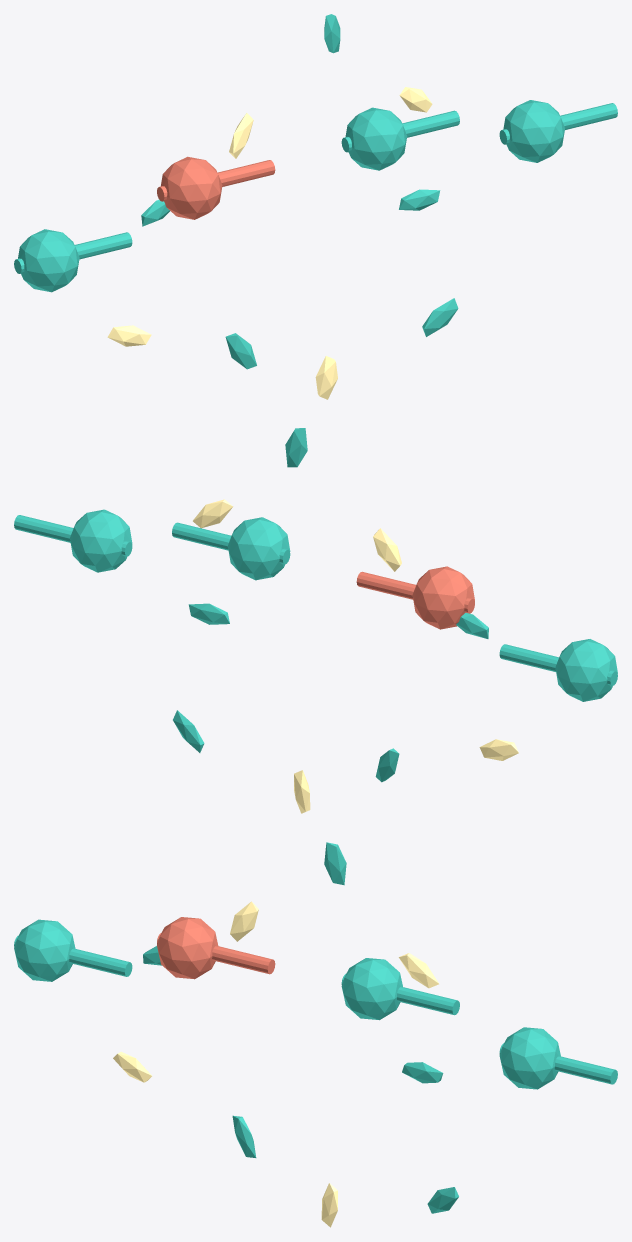
The model's file is banyan_scent_states.glb.
The picture shows the model from 3 angles, top to bottom: view 1: azimuth 30°, elevation 25°; view 2: azimuth 150°, elevation 25°; view 3: azimuth 330°, elevation 25°; orthographic projection.
Parts seen in each view (by area): view 1: Scent_CLAIMING_Bead_00, Scent_CLAIMING_Bead_02, Scent_CLAIMING_Bead_03, Scent_CLAIMING_Bead_01, Scent_CLAIMING_Stroke_00, Scent_CLAIMING_Stroke_01, Scent_CLAIMING_Stroke_03, Scent_CLAIMING_Stroke_02, Reward_Leaf_07, Reward_Leaf_06, Reward_Leaf_08, Reward_Leaf_05 (+4 smaller); view 2: Scent_CLAIMING_Bead_03, Scent_CLAIMING_Bead_00, Scent_CLAIMING_Bead_02, Scent_CLAIMING_Bead_01, Scent_CLAIMING_Stroke_02, Scent_CLAIMING_Stroke_01, Scent_CLAIMING_Stroke_03, Scent_CLAIMING_Stroke_00, Reward_Leaf_02, Reward_Leaf_01, Reward_Leaf_03, Reward_Leaf_00 (+5 smaller); view 3: Scent_CLAIMING_Bead_03, Scent_CLAIMING_Bead_00, Scent_CLAIMING_Bead_01, Scent_CLAIMING_Bead_02, Scent_CLAIMING_Stroke_00, Scent_CLAIMING_Stroke_03, Scent_CLAIMING_Stroke_01, Scent_CLAIMING_Stroke_02, Reward_Leaf_02, Reward_Leaf_01, Reward_Leaf_03, Reward_Leaf_00 (+4 smaller).
Part boxes in pixels (x1,y1,x2,y2): Scent_CLAIMING_Bead_00: (18,229,79,292); Scent_CLAIMING_Bead_02: (345,107,407,170); Scent_CLAIMING_Bead_03: (503,100,564,162); Scent_CLAIMING_Bead_01: (161,156,222,219); Scent_CLAIMING_Stroke_00: (14,232,132,273); Scent_CLAIMING_Stroke_01: (157,160,275,201); Scent_CLAIMING_Stroke_03: (499,103,617,144); Scent_CLAIMING_Stroke_02: (341,110,459,152); Reward_Leaf_07: (315,356,337,399); Reward_Leaf_06: (225,333,256,369); Reward_Leaf_08: (422,298,458,336); Reward_Leaf_05: (107,325,151,346); Scent_CLAIMING_Bead_03: (70,509,132,572); Scent_CLAIMING_Bead_00: (555,639,617,701); Scent_CLAIMING_Bead_02: (228,517,290,580); Scent_CLAIMING_Bead_01: (412,566,474,629); Scent_CLAIMING_Stroke_02: (172,522,290,564); Scent_CLAIMING_Stroke_01: (356,571,474,613); Scent_CLAIMING_Stroke_03: (14,515,132,556); Scent_CLAIMING_Stroke_00: (499,644,617,685); Reward_Leaf_02: (285,428,307,467); Reward_Leaf_01: (193,499,233,528); Reward_Leaf_03: (373,528,401,571); Reward_Leaf_00: (188,603,229,624); Scent_CLAIMING_Bead_03: (499,1027,560,1089); Scent_CLAIMING_Bead_00: (14,919,75,981); Scent_CLAIMING_Bead_01: (157,917,218,979); Scent_CLAIMING_Bead_02: (341,958,402,1020); Scent_CLAIMING_Stroke_00: (14,935,132,976); Scent_CLAIMING_Stroke_03: (499,1043,617,1084); Scent_CLAIMING_Stroke_01: (157,933,275,974); Scent_CLAIMING_Stroke_02: (341,974,459,1015); Reward_Leaf_02: (324,842,346,885); Reward_Leaf_01: (398,953,438,988); Reward_Leaf_03: (230,901,258,941); Reward_Leaf_00: (402,1062,443,1083).
Bounding box in the file's own units: 2.26 × 1.4 × 0.21.
